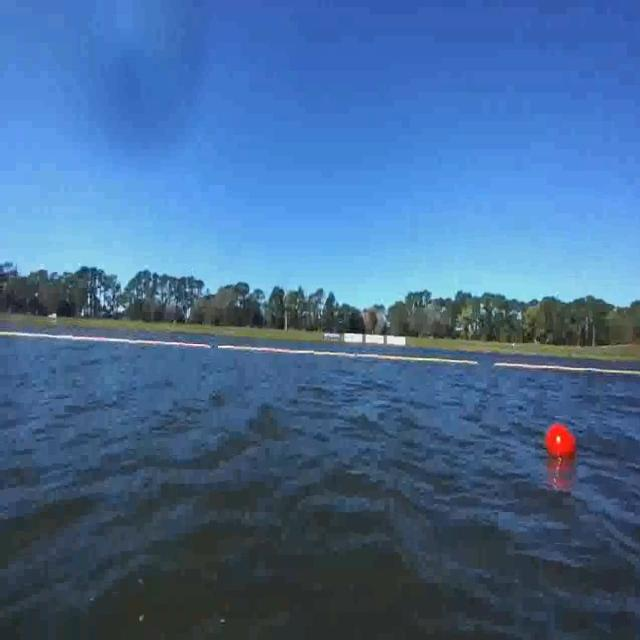red-buoy: (546, 425, 576, 459)
